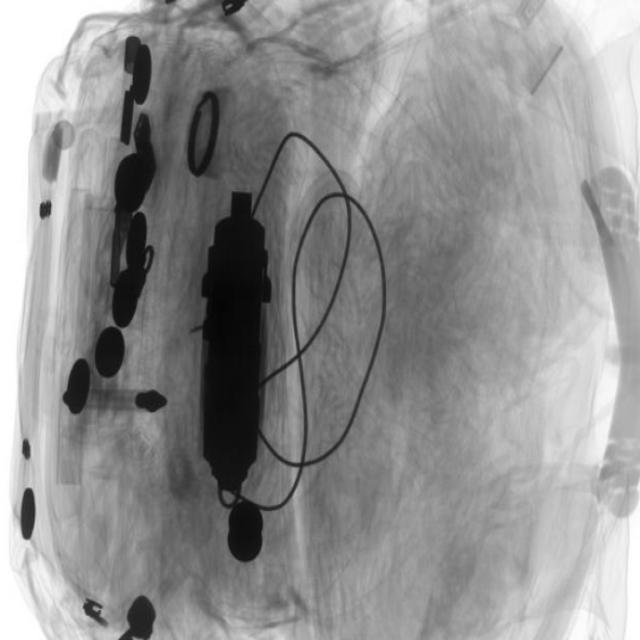GUN: (193, 183, 276, 511)
